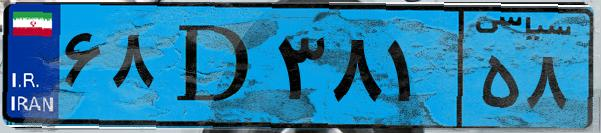1: (385, 28, 445, 110)
3: (270, 28, 330, 110)
5: (475, 38, 525, 113)
6: (57, 26, 110, 100)
8: (330, 28, 385, 110), (525, 38, 570, 115), (110, 28, 158, 98)
D: (158, 12, 270, 120)
